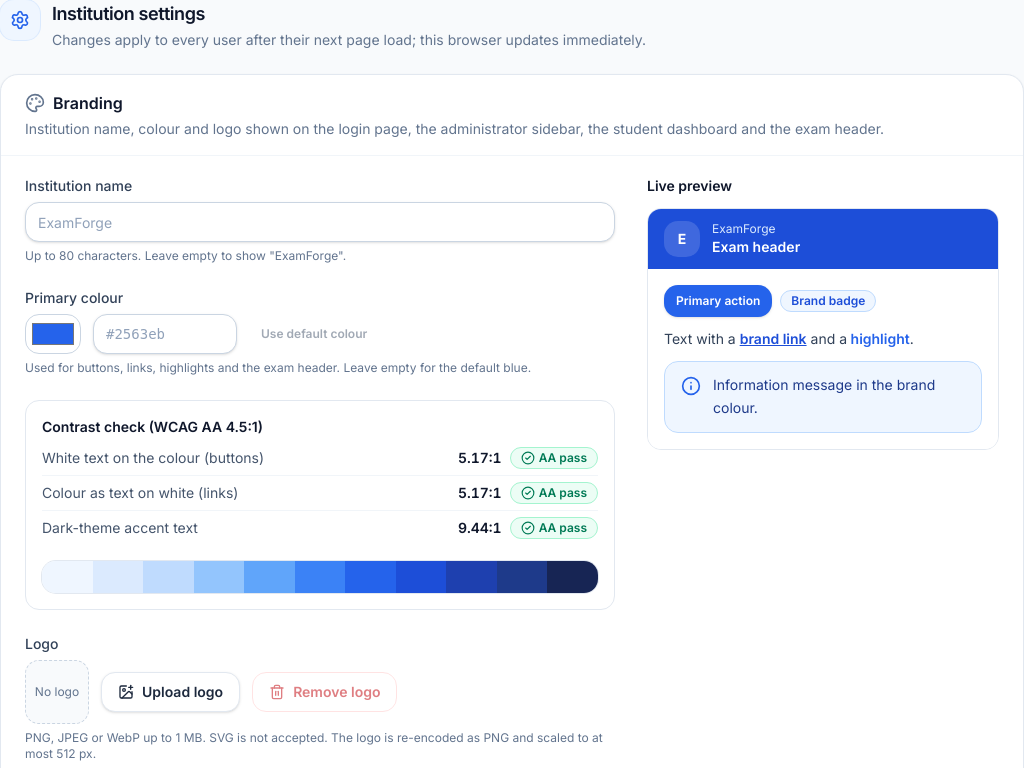
Test case: Branding form › validates the hex colour and disables Save while it is invalid
Type "#12zz" into the field labelled "Primary colour".
click(165, 334); type("#12zz")  # box [93,314,237,354]
(page scrolled)
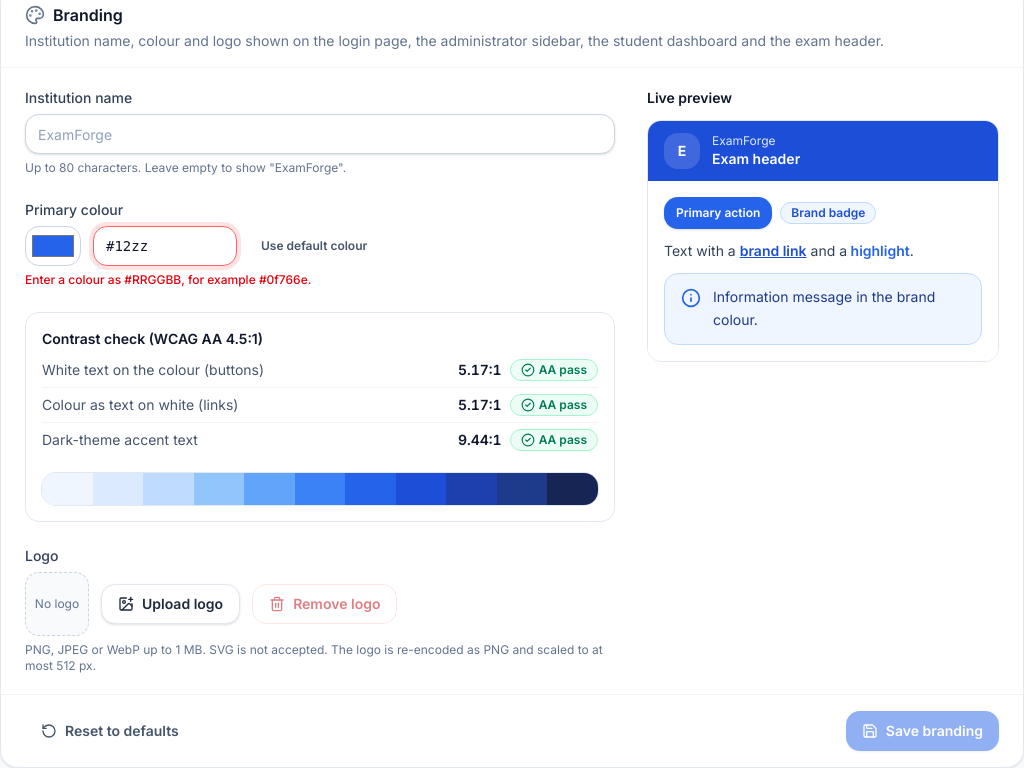
Check: the text "Enter a colour as #RRGGBB, for example #0f766e." is shown, box [25,272,311,287]
Check: the button "Save branding" is disabled, box [846,711,999,751]
